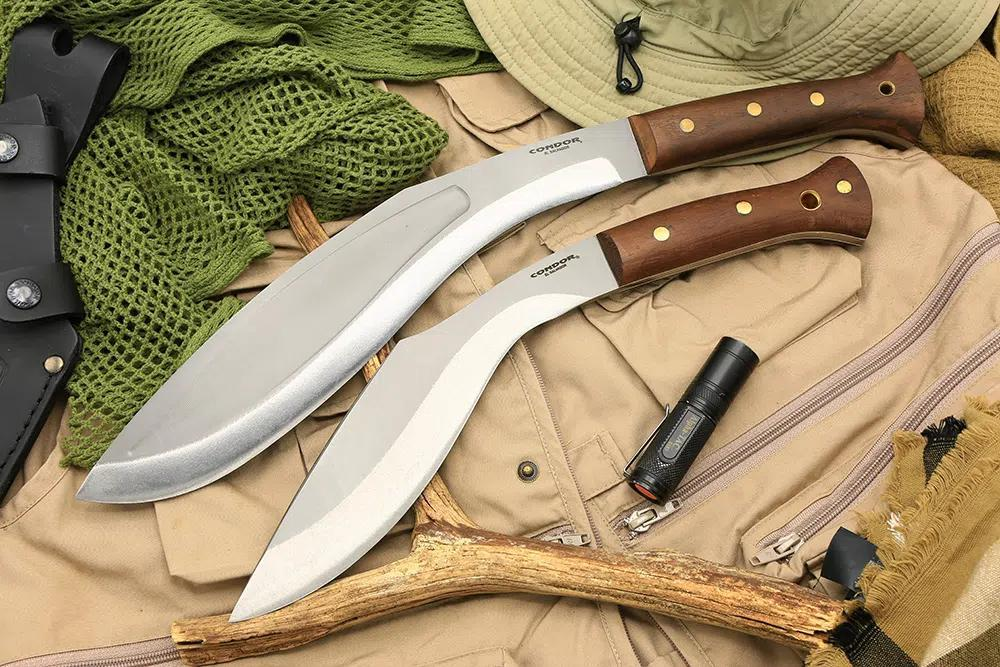facao: (72, 49, 927, 505), (229, 154, 874, 625)
